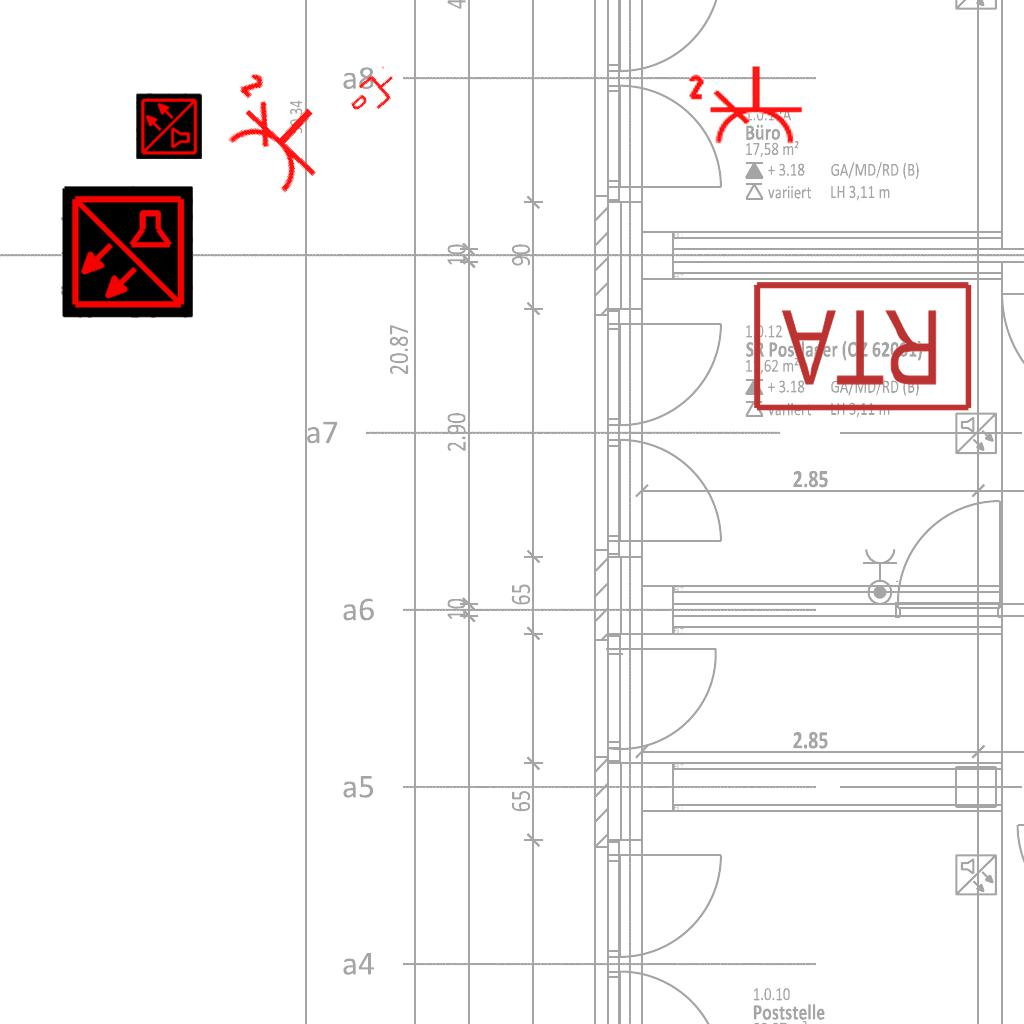Datenanschluss_einfach: (343, 63, 405, 123)
OKW_Multisensormelder_(Kombination_optischer_Rauch-Kahlenmonoxid_Waerme-Melder): (61, 186, 193, 318), (136, 93, 202, 159)
Ruf-und_Abstelltaster: (751, 277, 979, 415)
Schukosteckdose_mehrfach: (203, 58, 352, 206), (686, 60, 807, 148)
